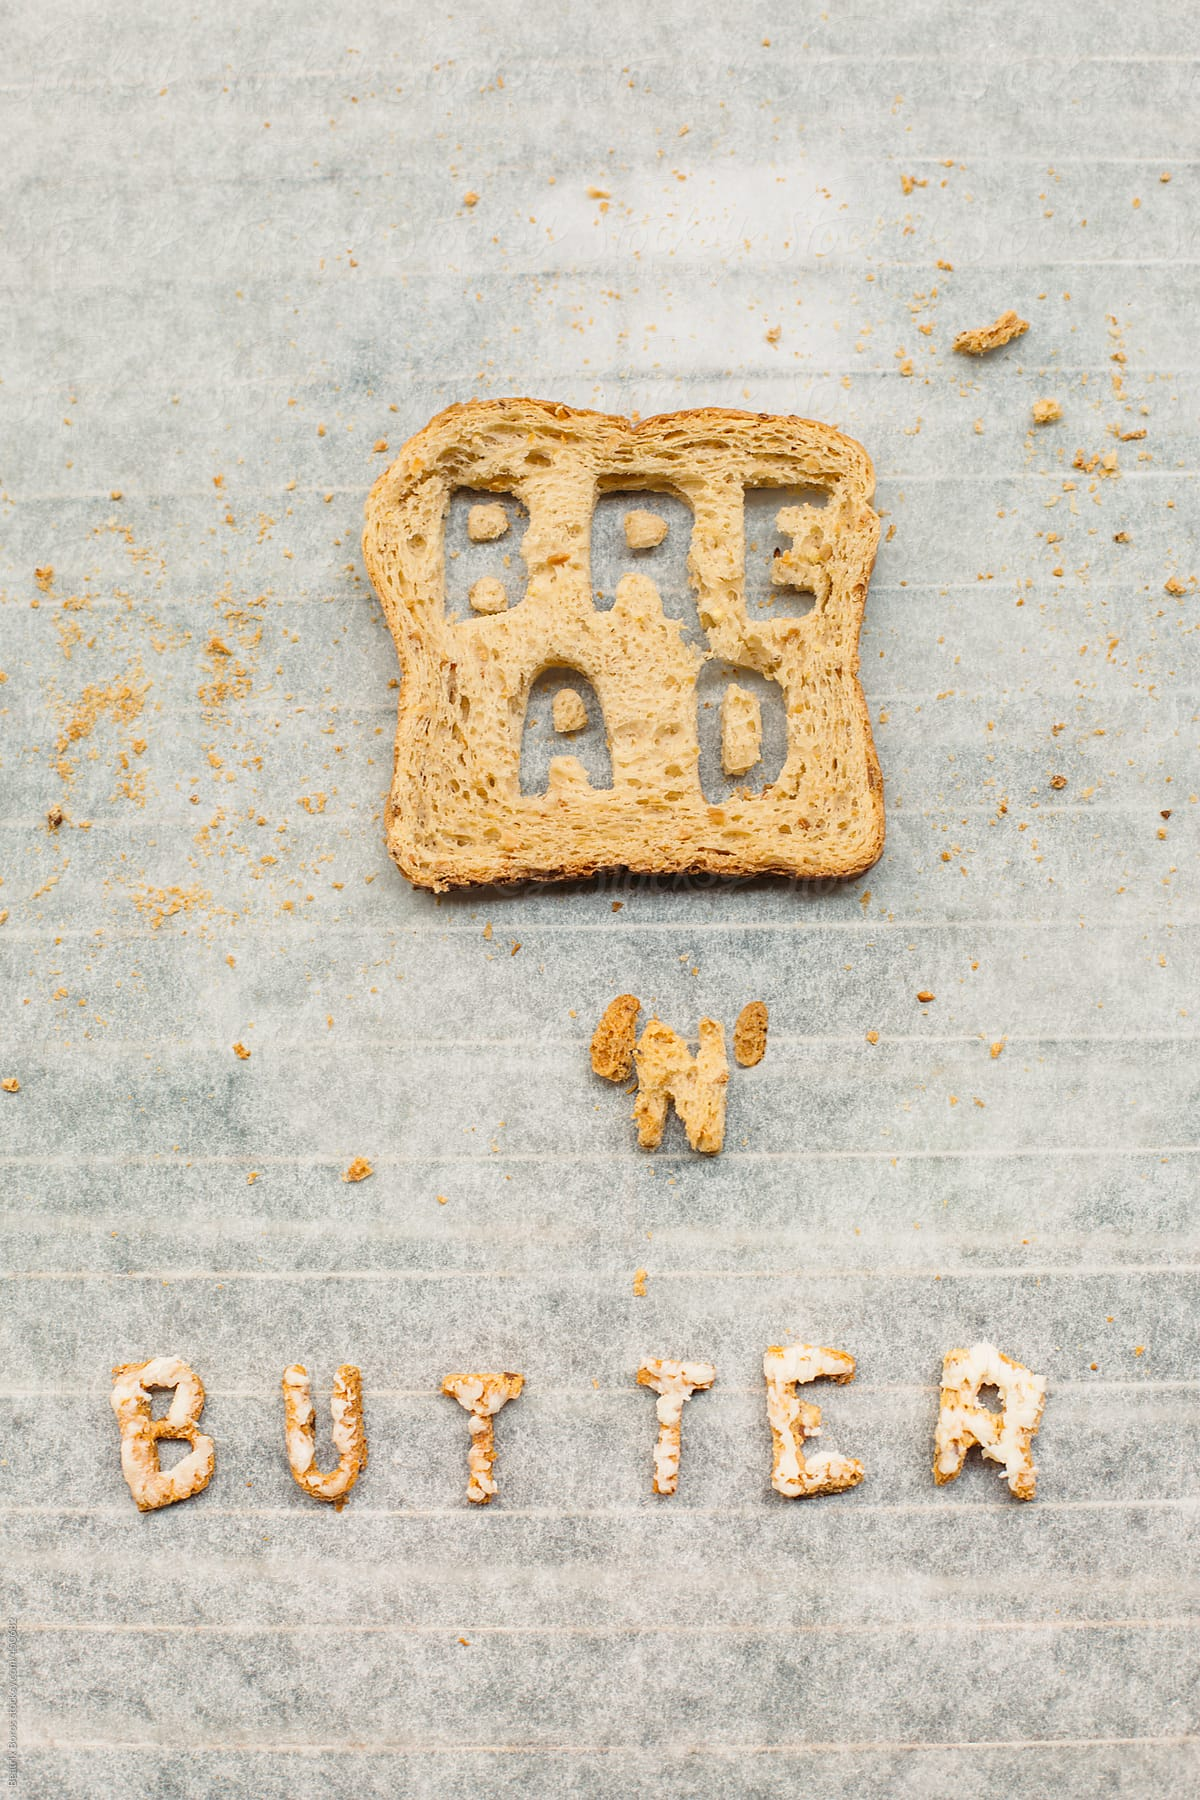slice of bread: (316, 374, 947, 984)
